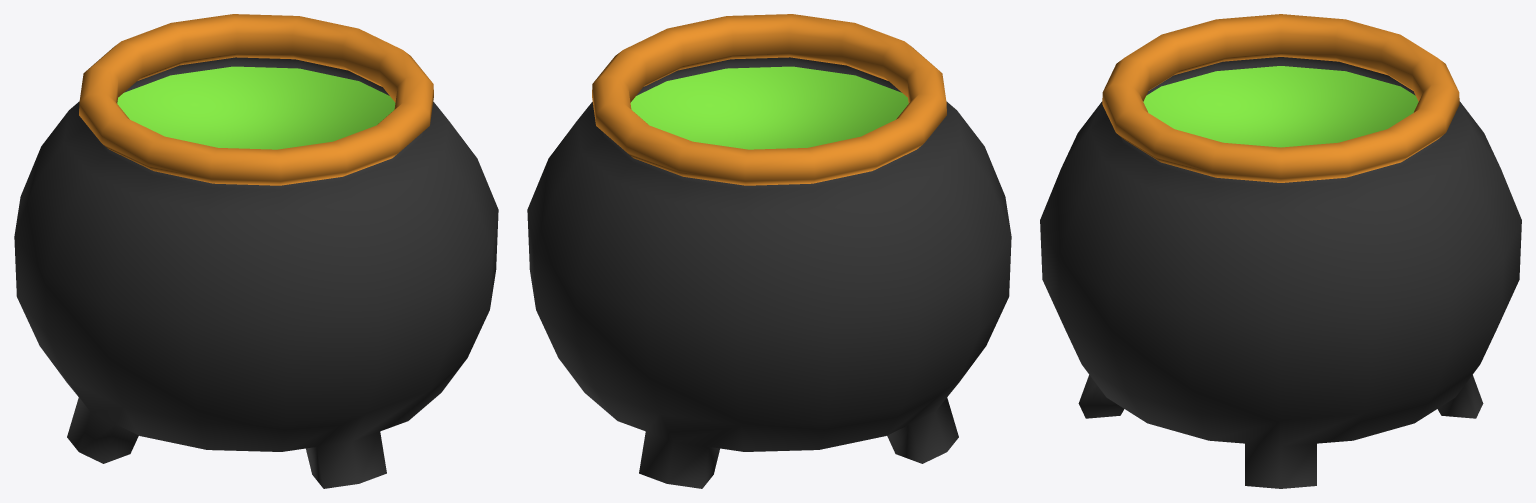
File: cauldren.glb
The picture shows the model from 3 angles, left to right: view 1: azimuth 30°, elevation 25°; view 2: azimuth 150°, elevation 25°; view 3: azimuth 270°, elevation 25°; orthographic projection.
Visible parts, largest first — view 1: Cauldren; view 2: Cauldren; view 3: Cauldren.
Part boxes in pixels (left/top/right/bottom): Cauldren: left=14, top=14, right=498, bottom=488; Cauldren: left=527, top=14, right=1011, bottom=488; Cauldren: left=1040, top=14, right=1521, bottom=488.
Size of the model in its own units: 1.54 by 1.12 by 1.54.
